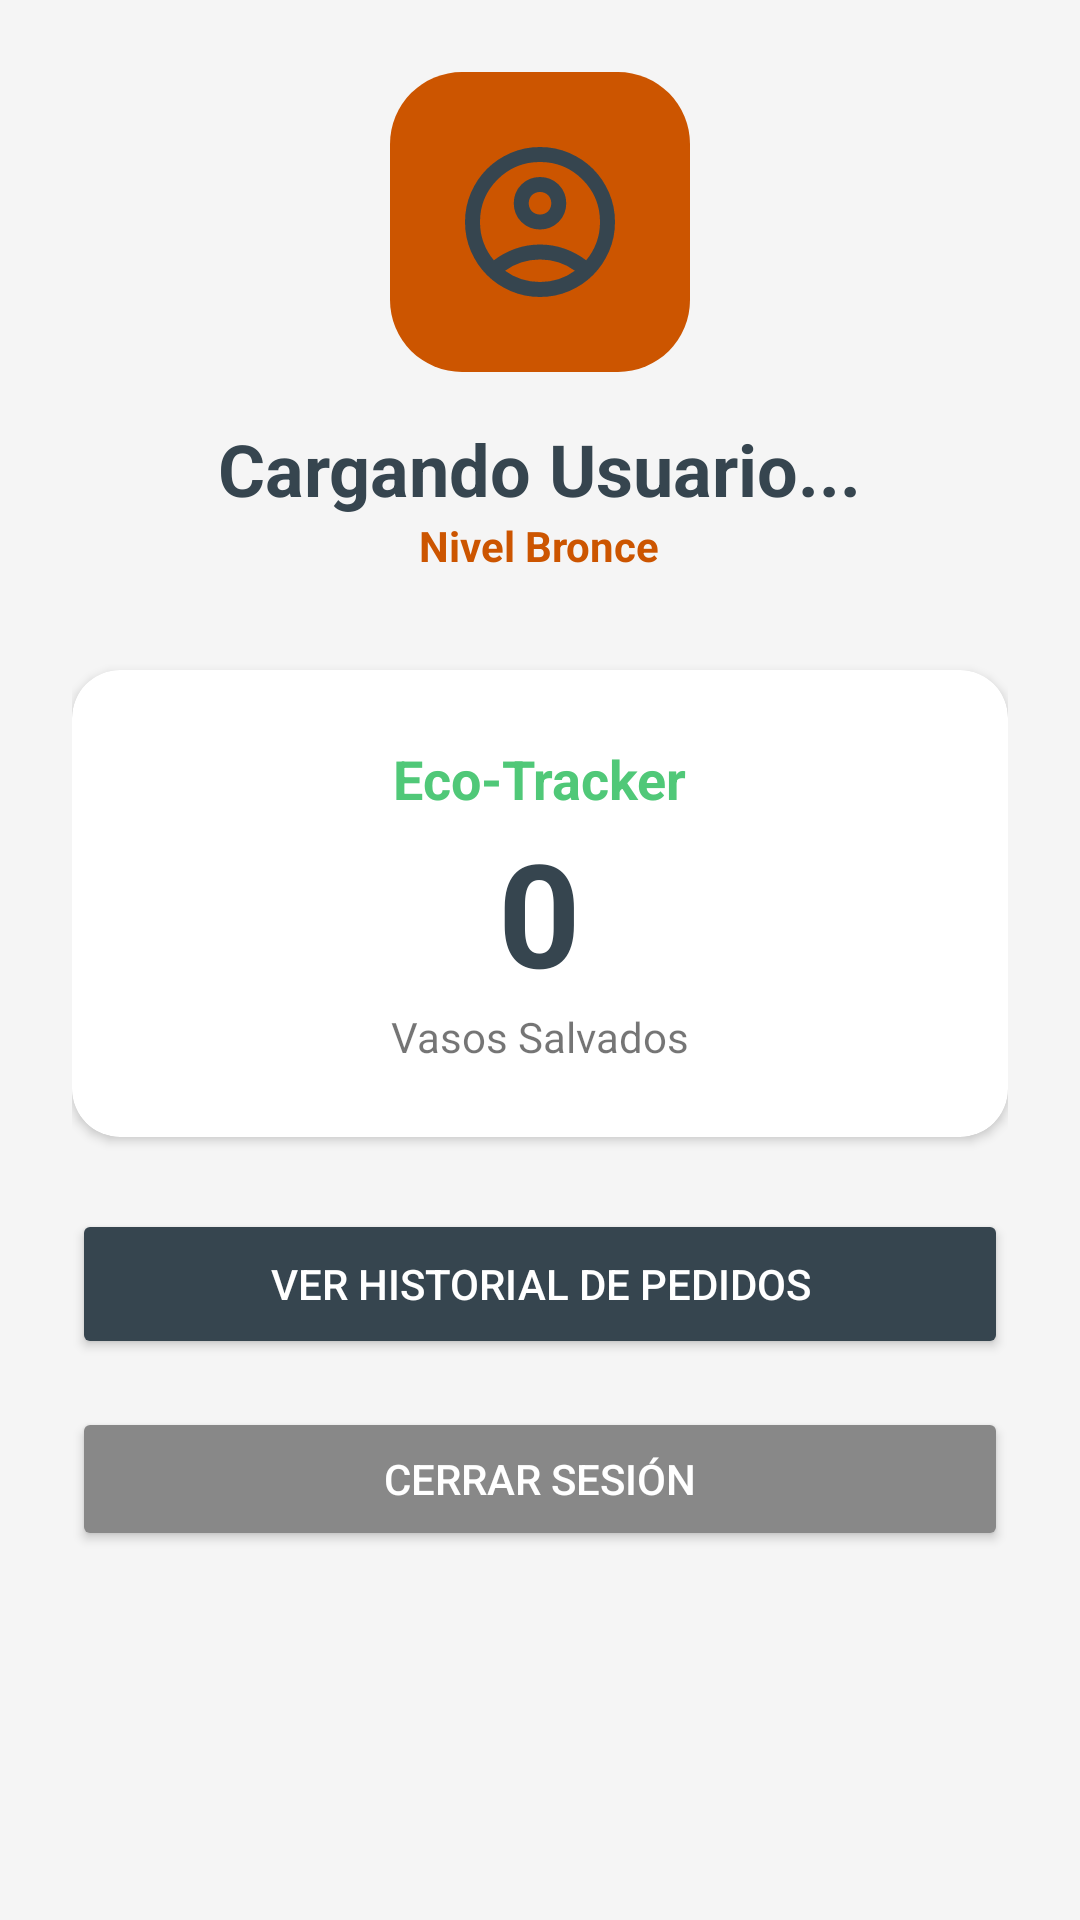

Icons on this 1080px×1920px Android screen, each with the point to tap as point (x, y):
profile user: point (540, 222)
